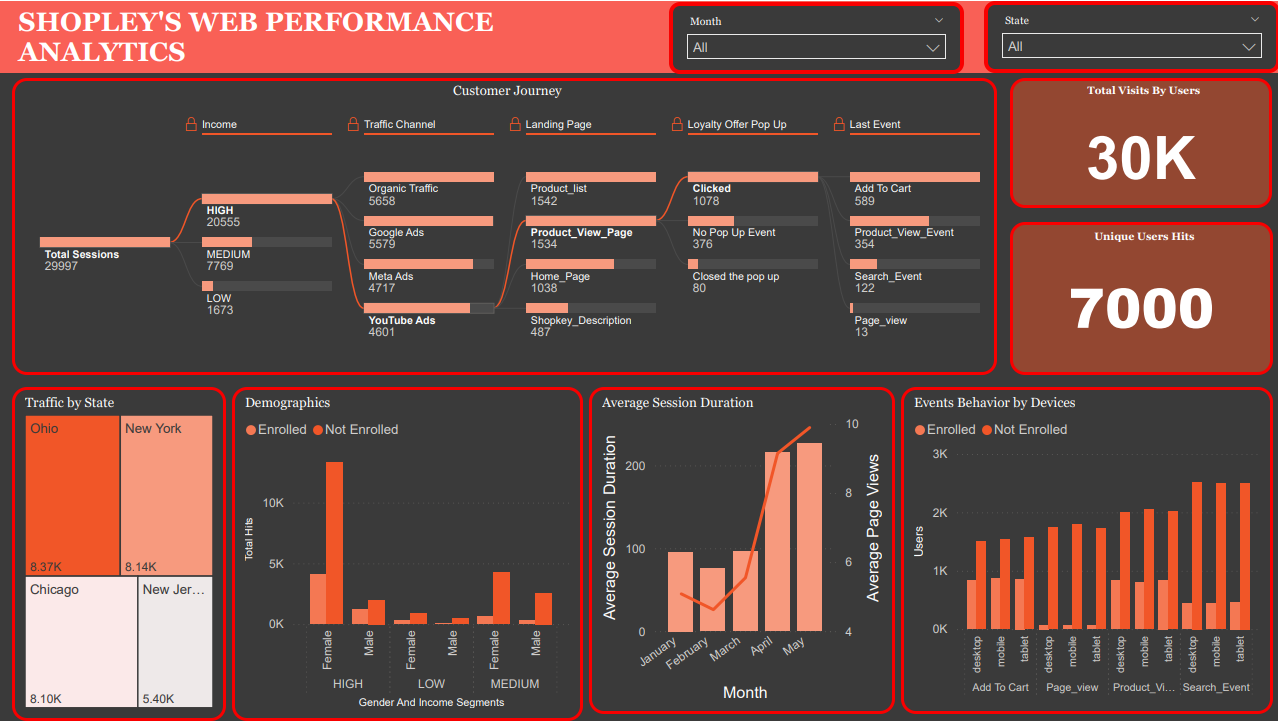

What the dashboard file says about the page in this screenshot:
{"tool":"powerbi","page":{"name":"Web Performance  Analytics","canvas":[1280,720],"ordinal":0},"visuals":[{"type":"shape","box":[0,0,1280,72.2],"z":0},{"type":"textbox","box":[0,1.4,1062.9,70],"z":1000},{"type":"card","title":"Unique Users Hits","fields":{"Values":["Count(Web_analytics_Data_CMA.customer_id)"]},"box":[1009.8,220.8,263,153.2],"z":2000},{"type":"slicer","fields":{"Values":["MASTER_CUSTOMER_TABLE.state"]},"box":[983.6,0,296.4,71.8],"z":3000},{"type":"card","title":"Total Visits By Users","fields":{"Values":["CountNonNull(Web_analytics_Data_CMA.customer_id)"]},"box":[1010,76.7,261.7,130],"z":4000},{"type":"slicer","fields":{"Values":["Loyalty_Program_Data_CMA.enrollment_date.Variation.Date Hierarchy.Month"]},"box":[668.6,1.4,295.7,71.4],"z":5000},{"type":"decompositionTreeVisual","title":"                 Customer Journey","fields":{"Analyze":["CountNonNull(Web_analytics_Data_CMA.customer_id)"],"ExplainBy":["MASTER_CUSTOMER_TABLE.income","Web_analytics_Data_CMA.traffic_Channel","Web_analytics_Data_CMA.landing_page","Web_analytics_Data_CMA.Loyalty Offer Pop Up","Web_analytics_Data_CMA.event_type"]},"box":[12.1,77.2,984.5,296.8],"z":6000},{"type":"treemap","fields":{"Group":["Web_analytics_Data_CMA.user_location"],"Values":["CountNonNull(Web_analytics_Data_CMA.customer_id)"]},"box":[11.8,386.4,214.5,333.6],"z":7000},{"type":"lineClusteredColumnComboChart","title":"Average Session Duration","fields":{"Category":["Web_analytics_Data_CMA.date_of_visit.Variation.Date Hierarchy.Month"],"Y":["Avg(Web_analytics_Data_CMA.session_duration)"],"Y2":["Avg(Web_analytics_Data_CMA.page_views)"]},"box":[588.8,386.4,306.4,326.4],"z":8000},{"type":"clusteredColumnChart","title":"Events Behavior by Devices","fields":{"Category":["MASTER_CUSTOMER_TABLE.most_frequent_event","Web_analytics_Data_CMA.device_type"],"Series":["Loyalty_Program_Data_CMA.enrollment_status"],"Y":["CountNonNull(Web_analytics_Data_CMA.customer_id)"]},"box":[900.9,386.4,371.8,326.4],"z":9000},{"type":"clusteredColumnChart","title":"Demographics","fields":{"Category":["MASTER_CUSTOMER_TABLE.income","MASTER_CUSTOMER_TABLE.gender"],"Y":["CountNonNull(Web_analytics_Data_CMA.customer_id)"],"Series":["Loyalty_Program_Data_CMA.enrollment_status"]},"box":[232.1,386.1,351.1,334.2],"z":10000}]}

Visuals, with their boxes in screenshot pixels (x1, y1, x2, y2), scaled from the page's 1280x720 canvas onto the 1278x722 screenshot:
shape: 0, 0, 1277, 72
textbox: 0, 1, 1061, 72
"Unique Users Hits" card: 1008, 221, 1271, 375
slicer - MASTER_CUSTOMER_TABLE.state: 982, 0, 1277, 72
"Total Visits By Users" card: 1008, 77, 1270, 207
slicer - Loyalty_Program_Data_CMA.enrollment_date.Variation.Date Hierarchy.Month: 668, 1, 963, 73
"                 Customer Journey" decompositionTreeVisual: 12, 77, 995, 375
treemap - Web_analytics_Data_CMA.user_location x CountNonNull(Web_analytics_Data_CMA.customer_id): 12, 387, 226, 721
"Average Session Duration" lineClusteredColumnComboChart: 588, 387, 894, 715
"Events Behavior by Devices" clusteredColumnChart: 899, 387, 1271, 715
"Demographics" clusteredColumnChart: 232, 387, 582, 721
